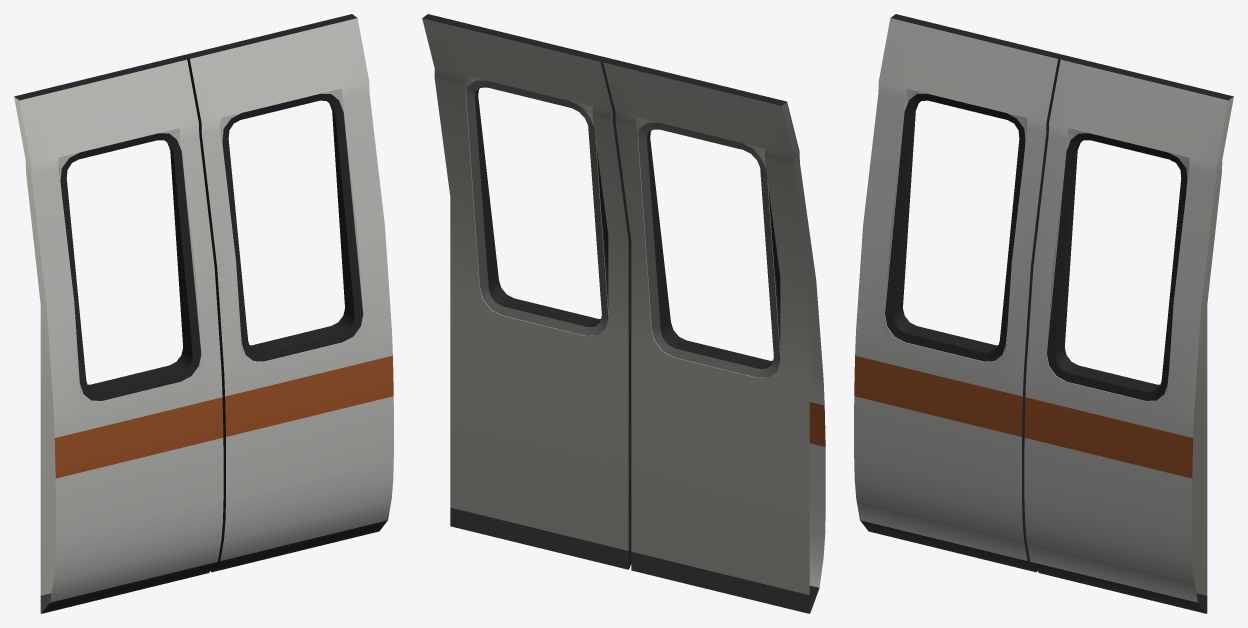
File: train_door_glazed.glb
The picture shows the model from 3 angles, left to right: view 1: azimuth 30°, elevation 25°; view 2: azimuth 150°, elevation 25°; view 3: azimuth 330°, elevation 25°; orthographic projection. The views are drawn at different scales.
Parts seen in each view (by area): view 1: train_door_glazed; view 2: train_door_glazed; view 3: train_door_glazed.
Boxes of the visible parts, left/top/right/bottom form: train_door_glazed: left=14, top=14, right=393, bottom=613; train_door_glazed: left=422, top=14, right=825, bottom=613; train_door_glazed: left=854, top=14, right=1233, bottom=613.
Bounding box in the file's own units: 1.6 × 2.25 × 0.3425.
